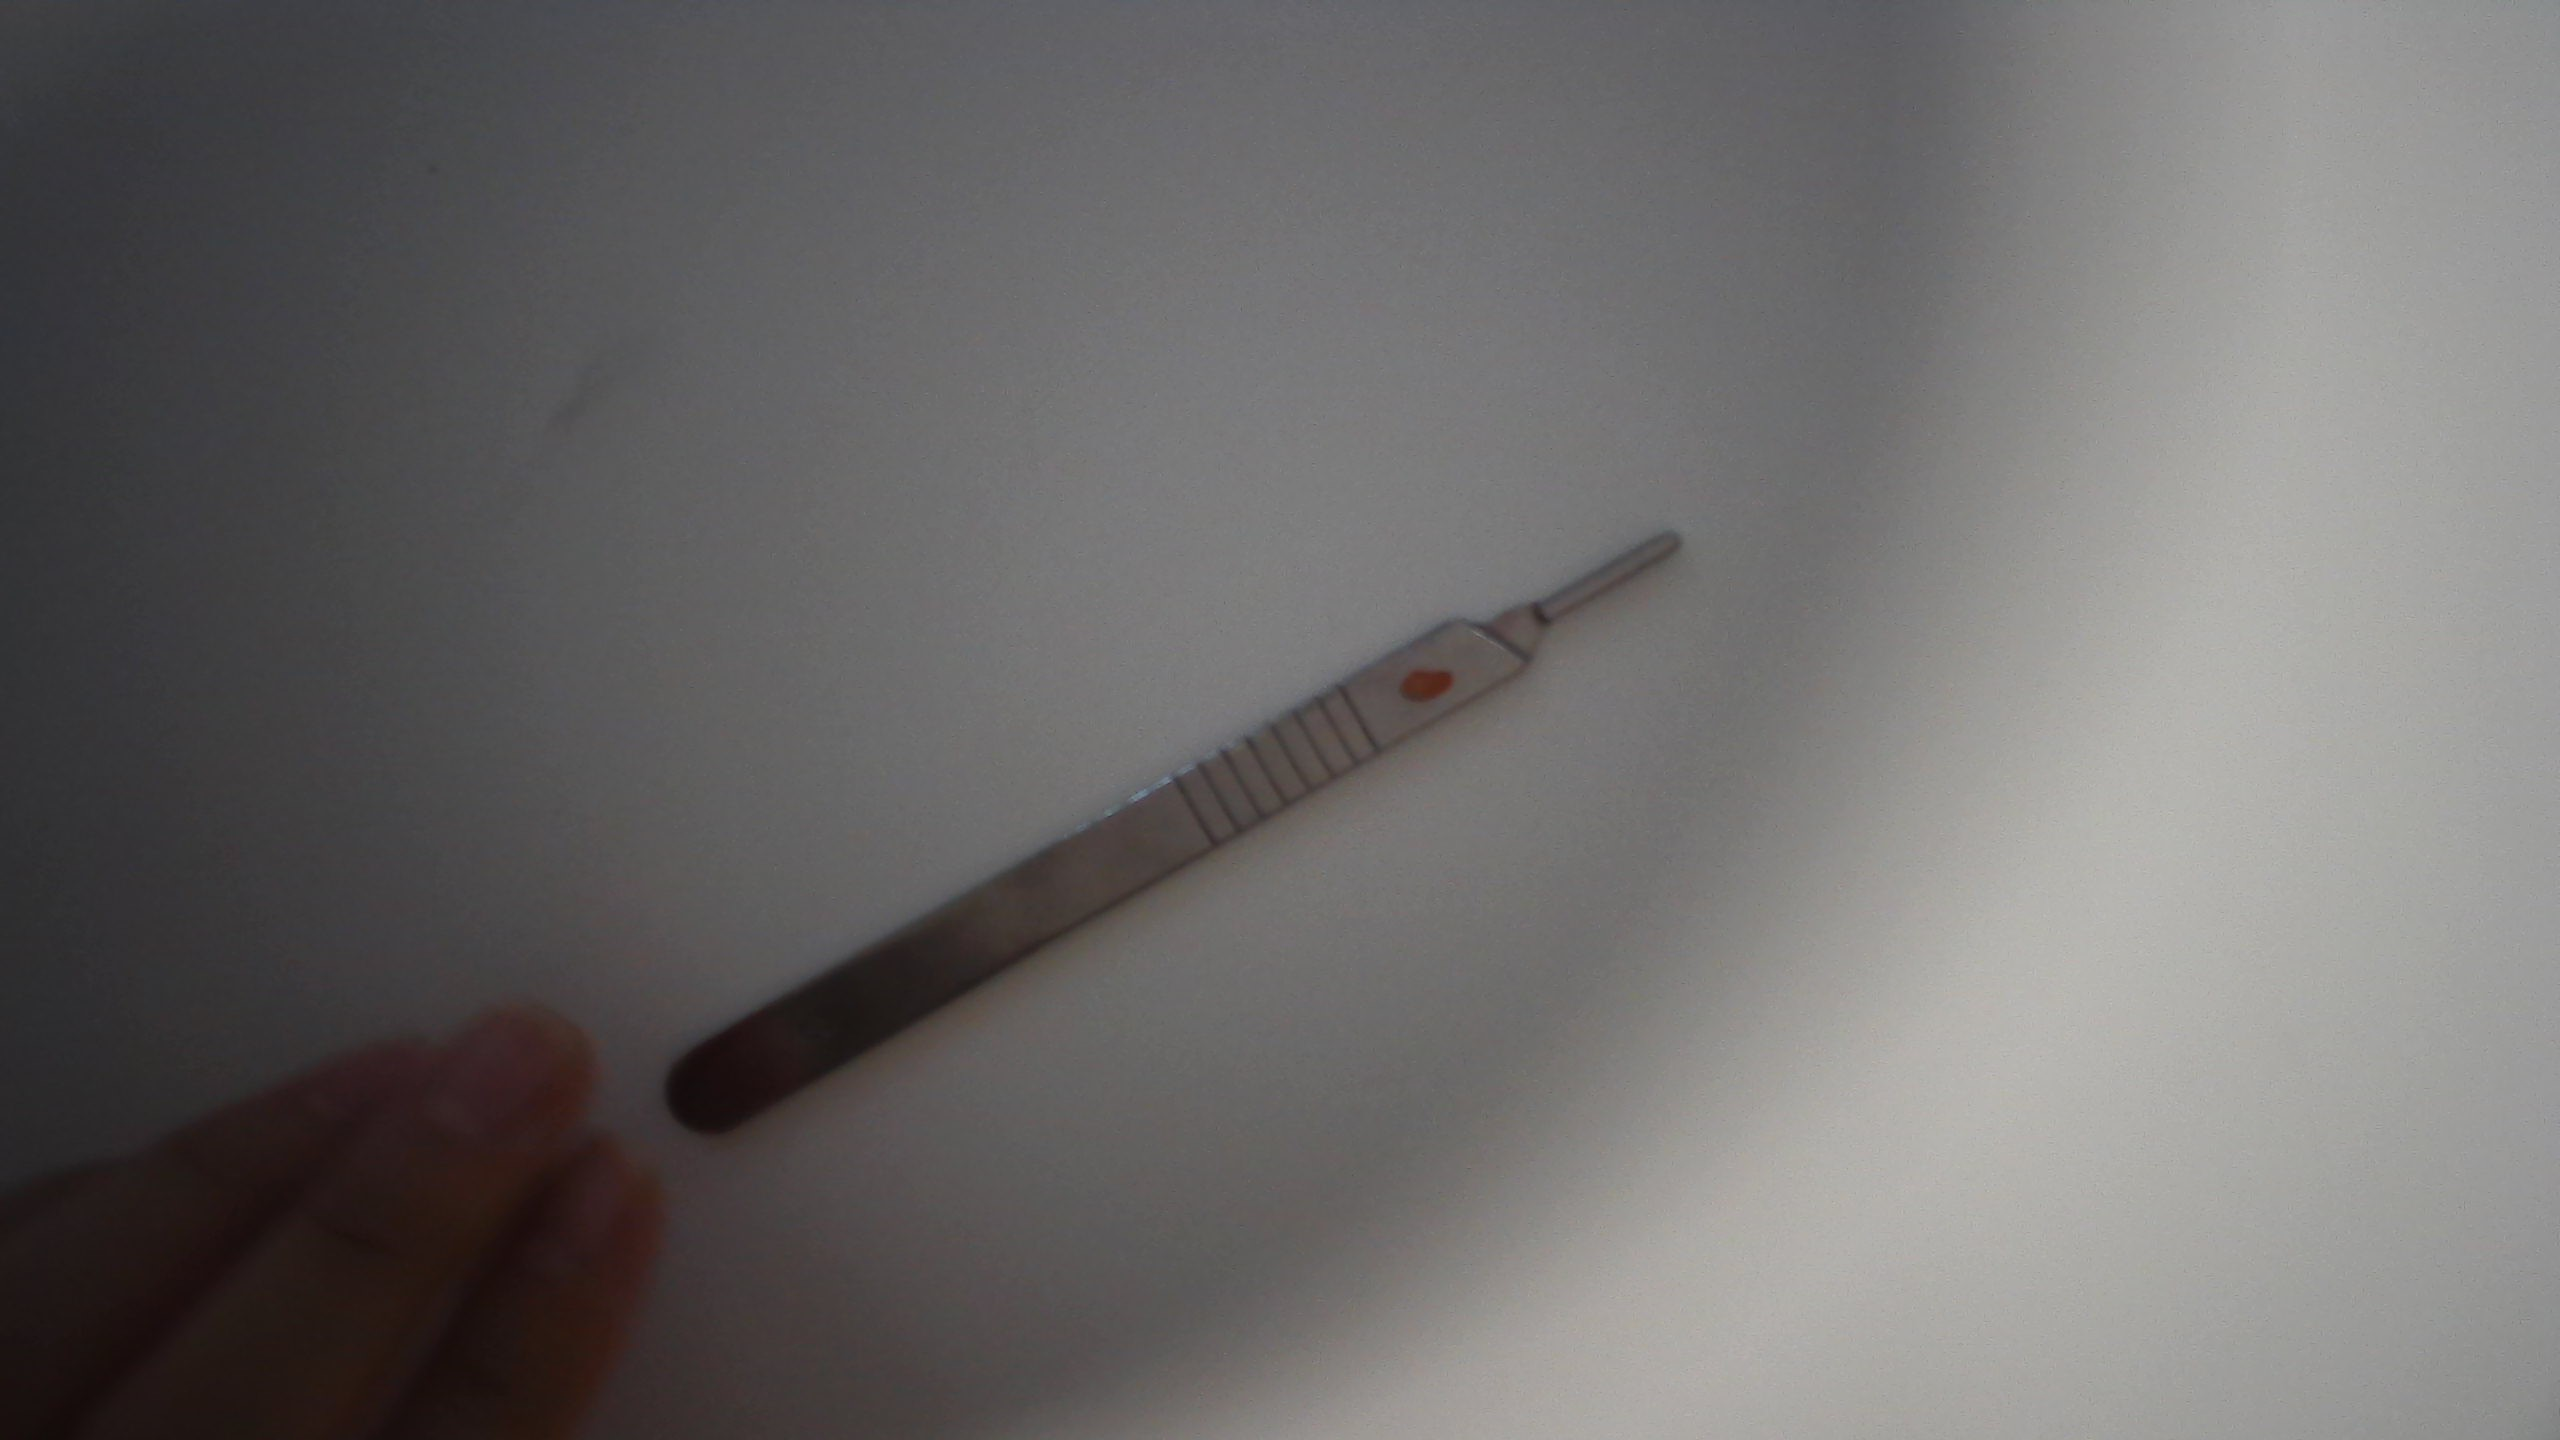Stain: (1399, 657, 1450, 703)
